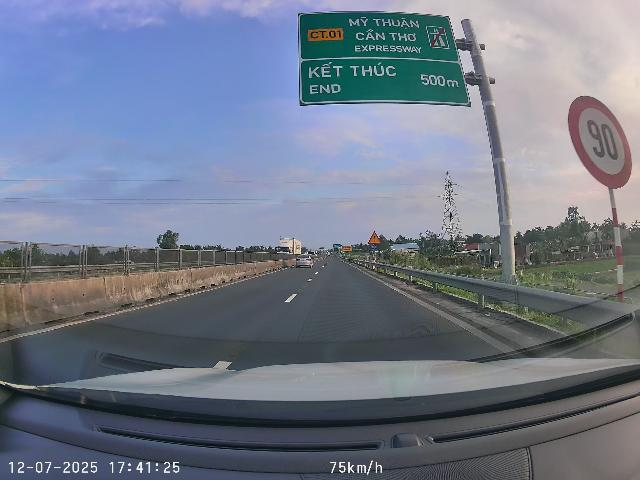127-toc-do-toi-da-90: (567, 95, 632, 190)
438-ket-thuc-duong-cao-toc: (425, 24, 451, 51)
